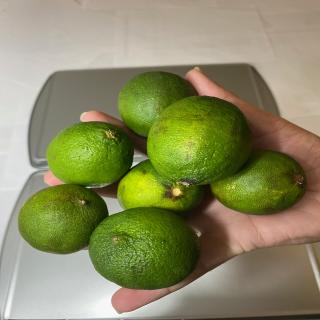Chilli: (18, 68, 307, 291)
Lemon: (146, 95, 253, 186), (88, 206, 201, 290), (17, 183, 109, 255), (210, 148, 307, 216), (46, 120, 134, 188), (118, 71, 198, 138), (117, 158, 204, 216)
